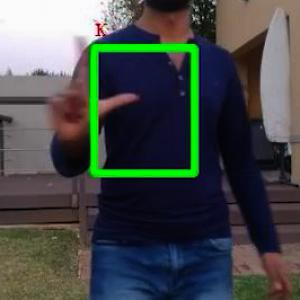land_hand: (42, 26, 146, 160)
